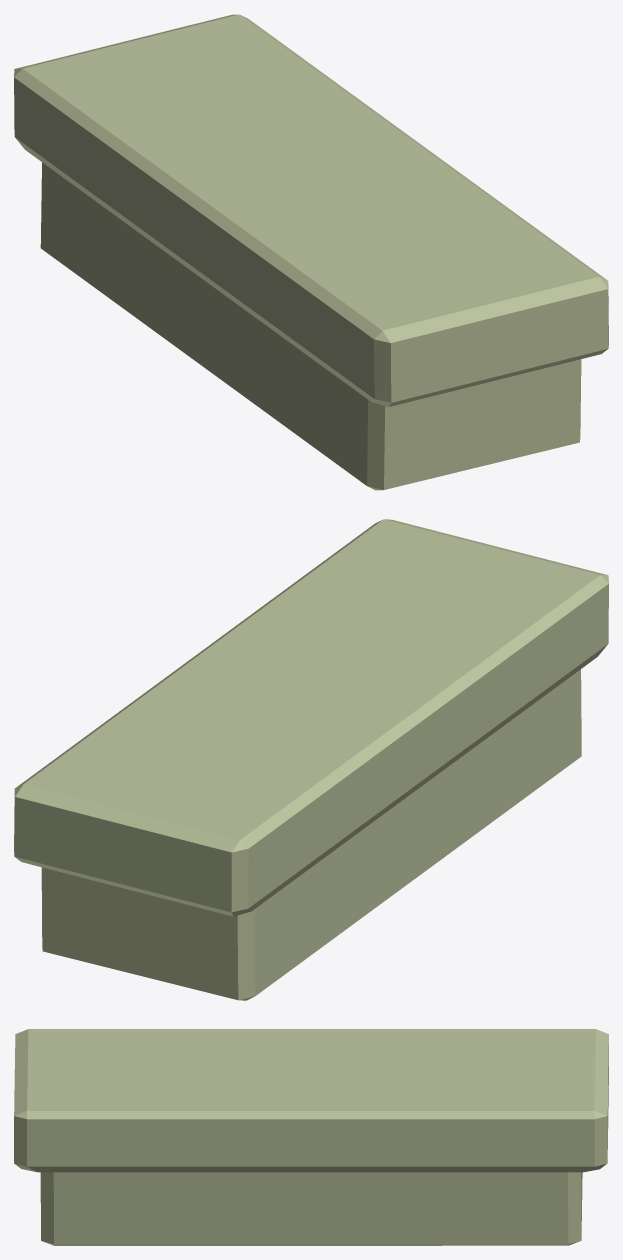
File: Bedroom_2_Ottoman.fbx
3 renders of one model, top to bottom at view 1: azimuth 30°, elevation 25°; view 2: azimuth 150°, elevation 25°; view 3: azimuth 270°, elevation 25°, orthographic. The views are drawn at different scales.
Visible parts, largest first — view 1: Bedroom_2_Ottoman; view 2: Bedroom_2_Ottoman; view 3: Bedroom_2_Ottoman.
Boxes of the visible parts, box(x1,y1,x2,y2) form: Bedroom_2_Ottoman: box(14, 14, 608, 490); Bedroom_2_Ottoman: box(14, 519, 608, 1000); Bedroom_2_Ottoman: box(14, 1029, 608, 1245).
Bounding box in the file's own units: 79.97 × 57.52 × 222.
